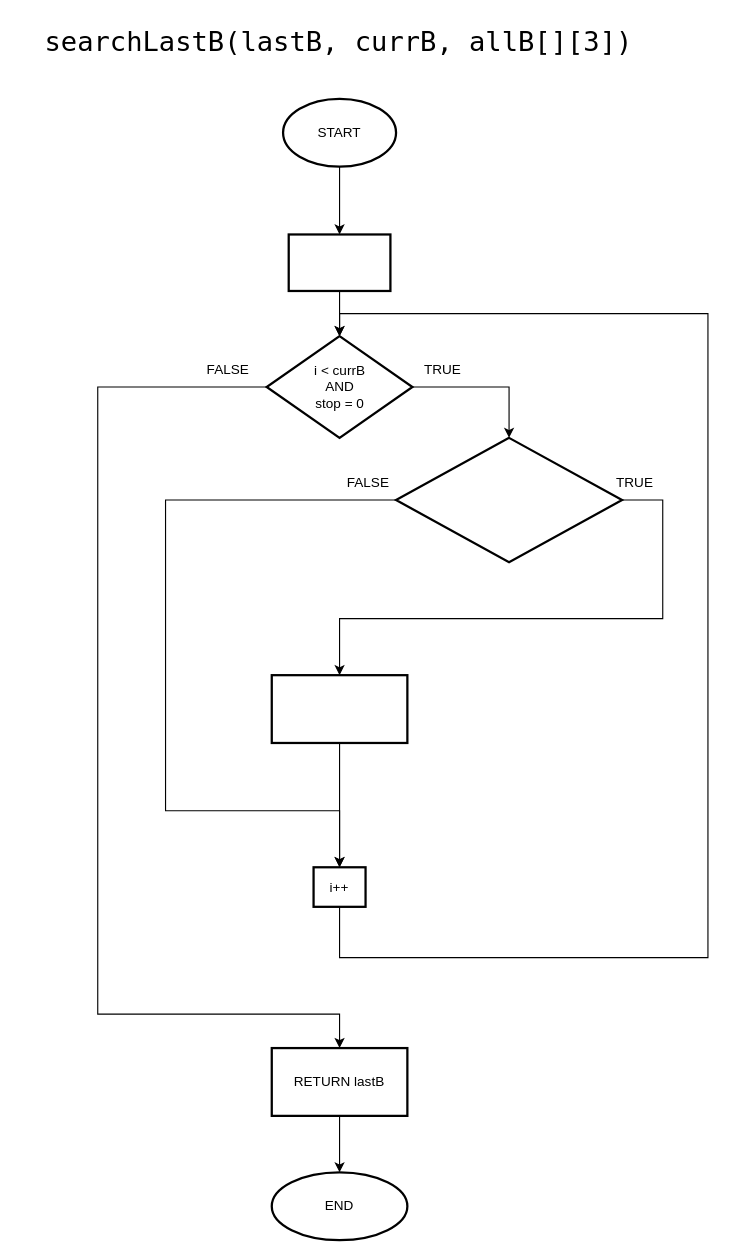
Image size: 737x1260. Some labels were removed from this diagram. The shapes that lost their labels are listed below. From the top down, each one's centre as x and y in pixels, then its label:
At (x=339, y=262): "stop = 0 i = lastB".
At (x=508, y=499): "allB[i][2] > allB[currB][0]".
At (x=339, y=708): "stop = 1 lastB = i".
